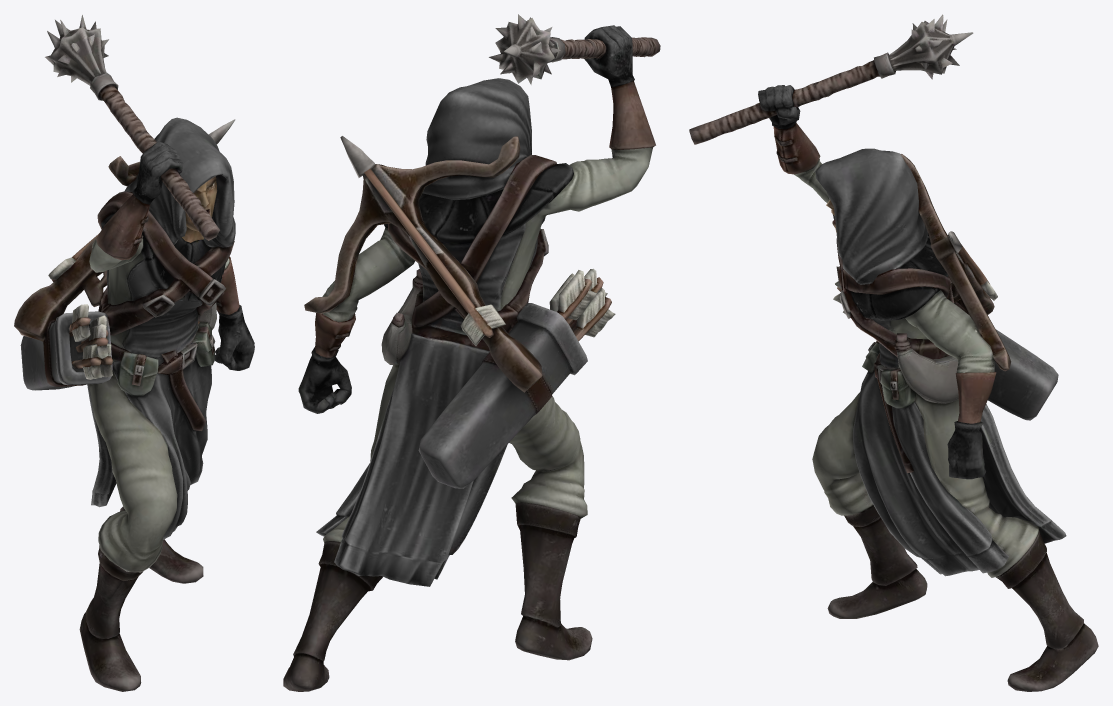
The model's file is MZ4250 - Thug Female 03.glb.
3 views of the same model, side by side, from view 1: azimuth 30°, elevation 25°; view 2: azimuth 150°, elevation 25°; view 3: azimuth 270°, elevation 25° (orthographic). The views are drawn at different scales.
Visible parts, largest first — view 1: ThugFemale01; view 2: ThugFemale01; view 3: ThugFemale01.
Part boxes in pixels (box(x1,y1,x2,y2)): ThugFemale01: box(14, 15, 254, 691); ThugFemale01: box(283, 14, 660, 691); ThugFemale01: box(689, 14, 1098, 691).
Size of the model in its own units: 0.4606 by 1.15 by 0.717.
Materials: 1 (1 with a texture image).
